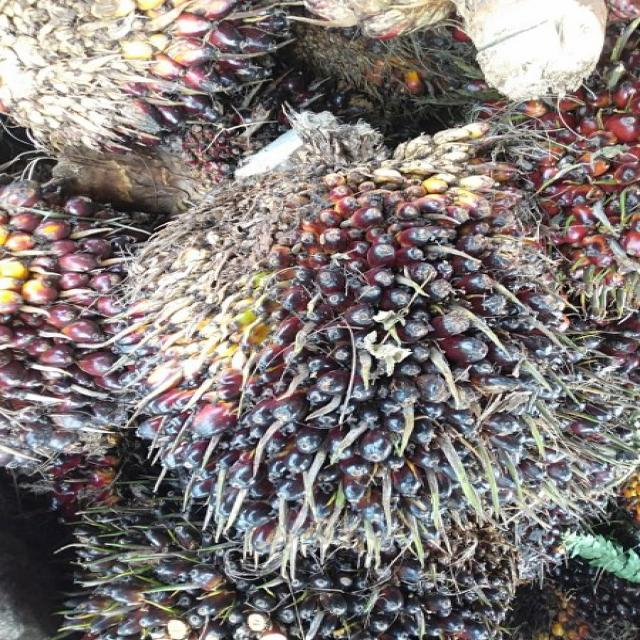fraksi 00: (82, 177, 554, 555)
